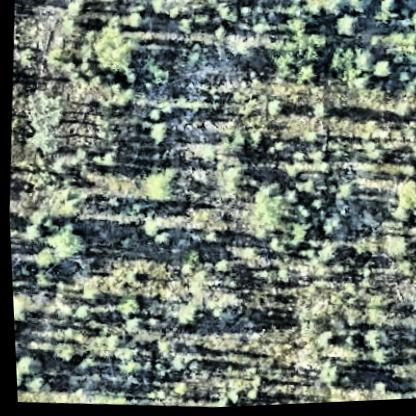tree-top: (86, 24, 141, 82), (278, 24, 333, 73), (244, 184, 288, 234), (43, 219, 87, 262), (138, 166, 178, 206), (203, 288, 243, 328), (390, 180, 416, 227), (377, 233, 412, 266), (167, 301, 203, 332), (356, 325, 390, 357), (12, 349, 37, 389), (309, 358, 338, 392), (93, 142, 123, 173), (44, 335, 73, 367), (334, 13, 364, 42), (307, 241, 338, 268), (349, 50, 377, 79), (145, 119, 172, 148), (150, 334, 177, 361), (210, 0, 238, 25), (314, 212, 341, 237), (370, 59, 395, 84), (116, 316, 143, 339), (138, 216, 159, 245), (330, 183, 355, 207), (113, 357, 140, 379), (393, 161, 416, 186), (113, 295, 137, 318), (10, 295, 24, 334), (367, 377, 390, 400), (340, 0, 368, 18), (374, 0, 400, 18), (302, 0, 324, 20), (238, 387, 259, 407), (246, 130, 266, 150), (313, 331, 333, 351), (138, 109, 162, 125), (264, 98, 283, 118), (305, 195, 324, 215), (71, 303, 91, 321), (407, 290, 416, 325), (382, 392, 410, 403)
